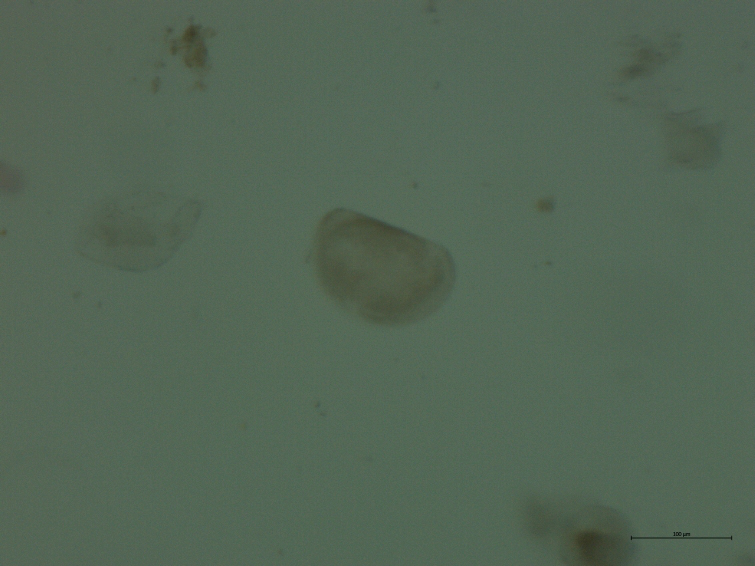oyster: (302, 200, 468, 334)
